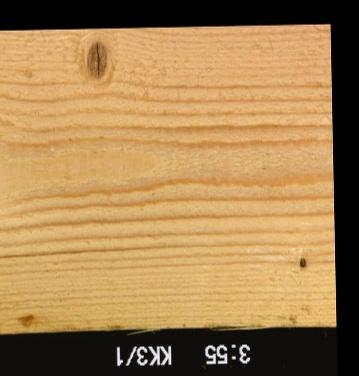dry_knot: (298, 257, 307, 268)
sound_knot: (84, 41, 109, 79)
